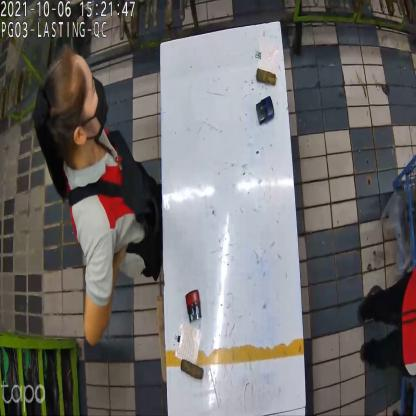stamp: (184, 292, 203, 326), (256, 96, 274, 128)
